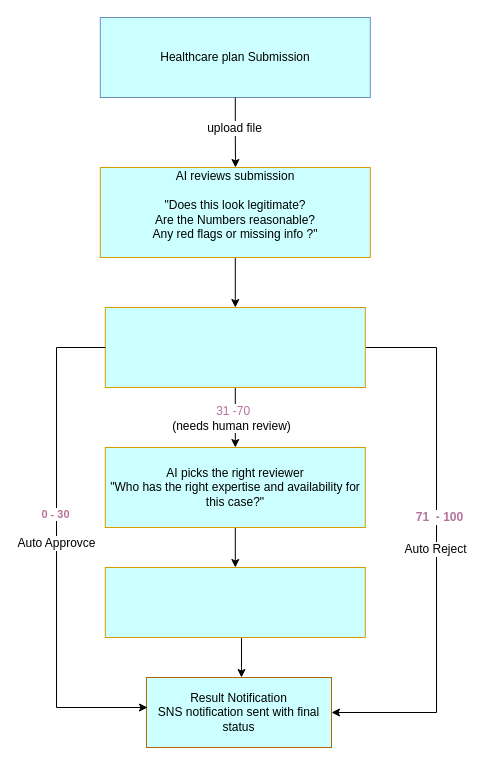
The diagram is 483 pixels wide and 765 high, and some of its shapes have lost their labels. Here are the shapes that lost their labels. From the top down, the centre of each, then its label:
At point (234, 347): "AI gives a Risk score 0-------100 (safe) (risky)".
At point (234, 602): "Send Email - Work flow waits Human approves or rejects".
